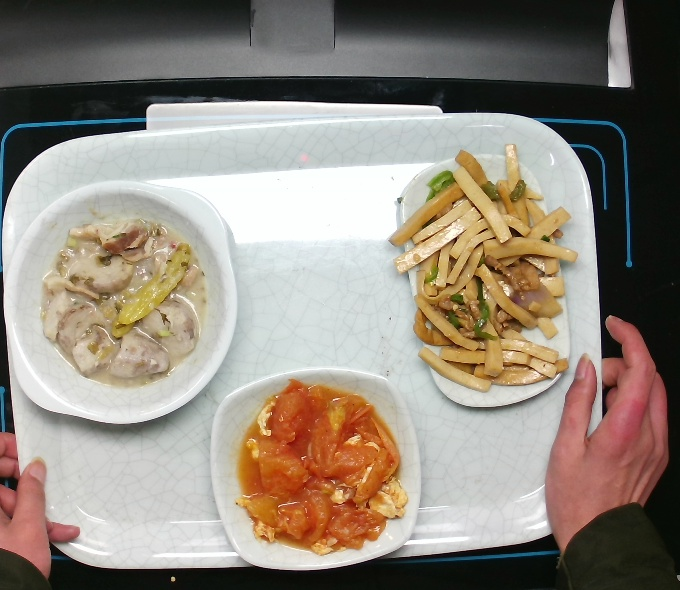wcq-FanQieChaoDan: (226, 374, 411, 559)
wcq-QianYeDouFu: (386, 139, 586, 396)
wcq-YangYu: (34, 212, 215, 392)
